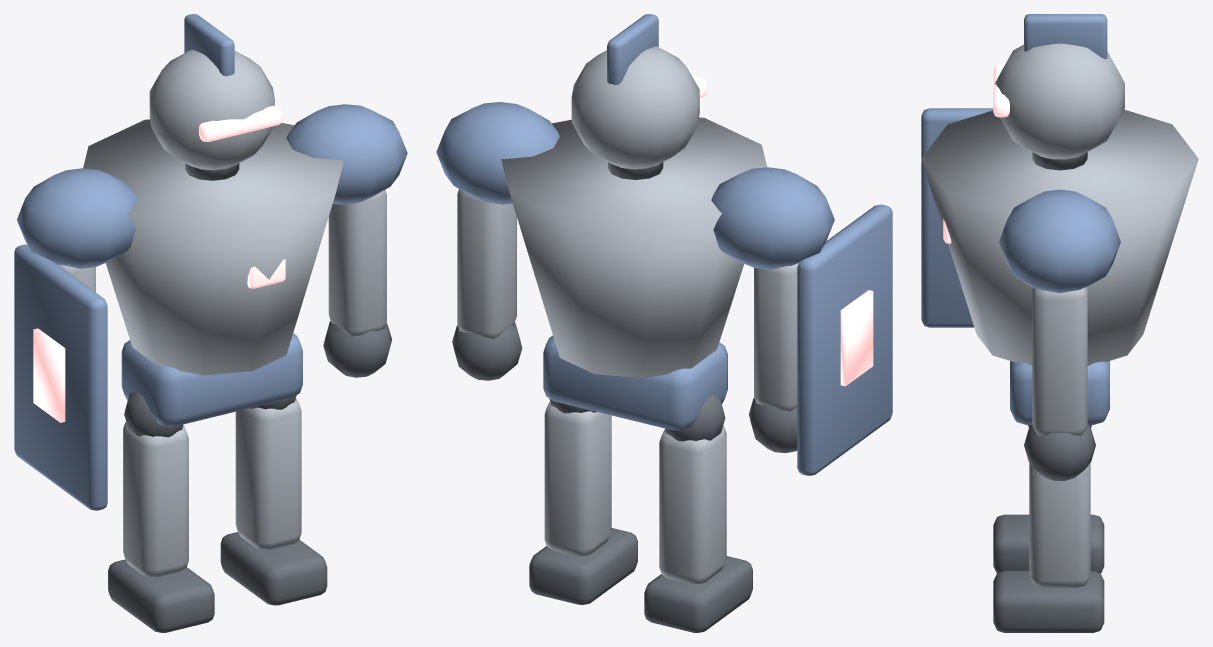
Rendered from mob_robot_guard_v01.glb.
3 renders of one model, left to right at view 1: azimuth 30°, elevation 25°; view 2: azimuth 150°, elevation 25°; view 3: azimuth 270°, elevation 25°, orthographic. The views are drawn at different scales.
Visible parts, largest first — view 1: mob_robot_guard_v01; view 2: mob_robot_guard_v01; view 3: mob_robot_guard_v01.
Boxes of the visible parts, x1,y1,x2,y2 form: mob_robot_guard_v01: (14,14,407,632); mob_robot_guard_v01: (436,14,892,632); mob_robot_guard_v01: (921,14,1198,632).
Bounding box in the file's own units: 1.62 × 2.3 × 1.
